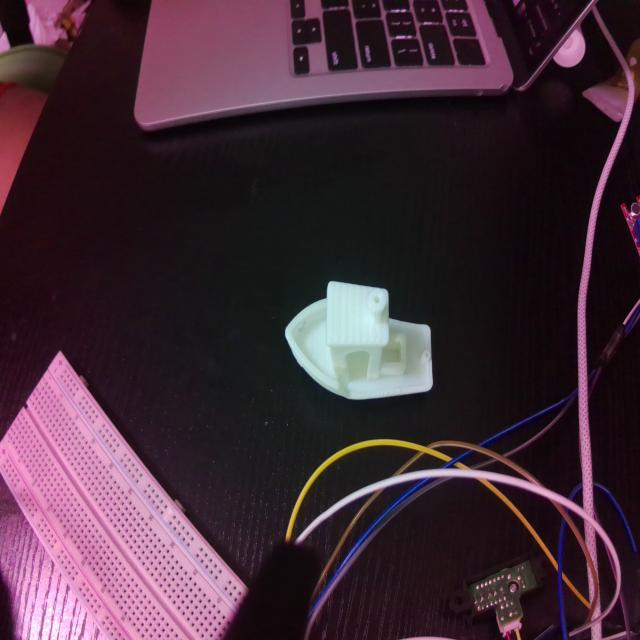ship: (285, 277, 434, 403)
